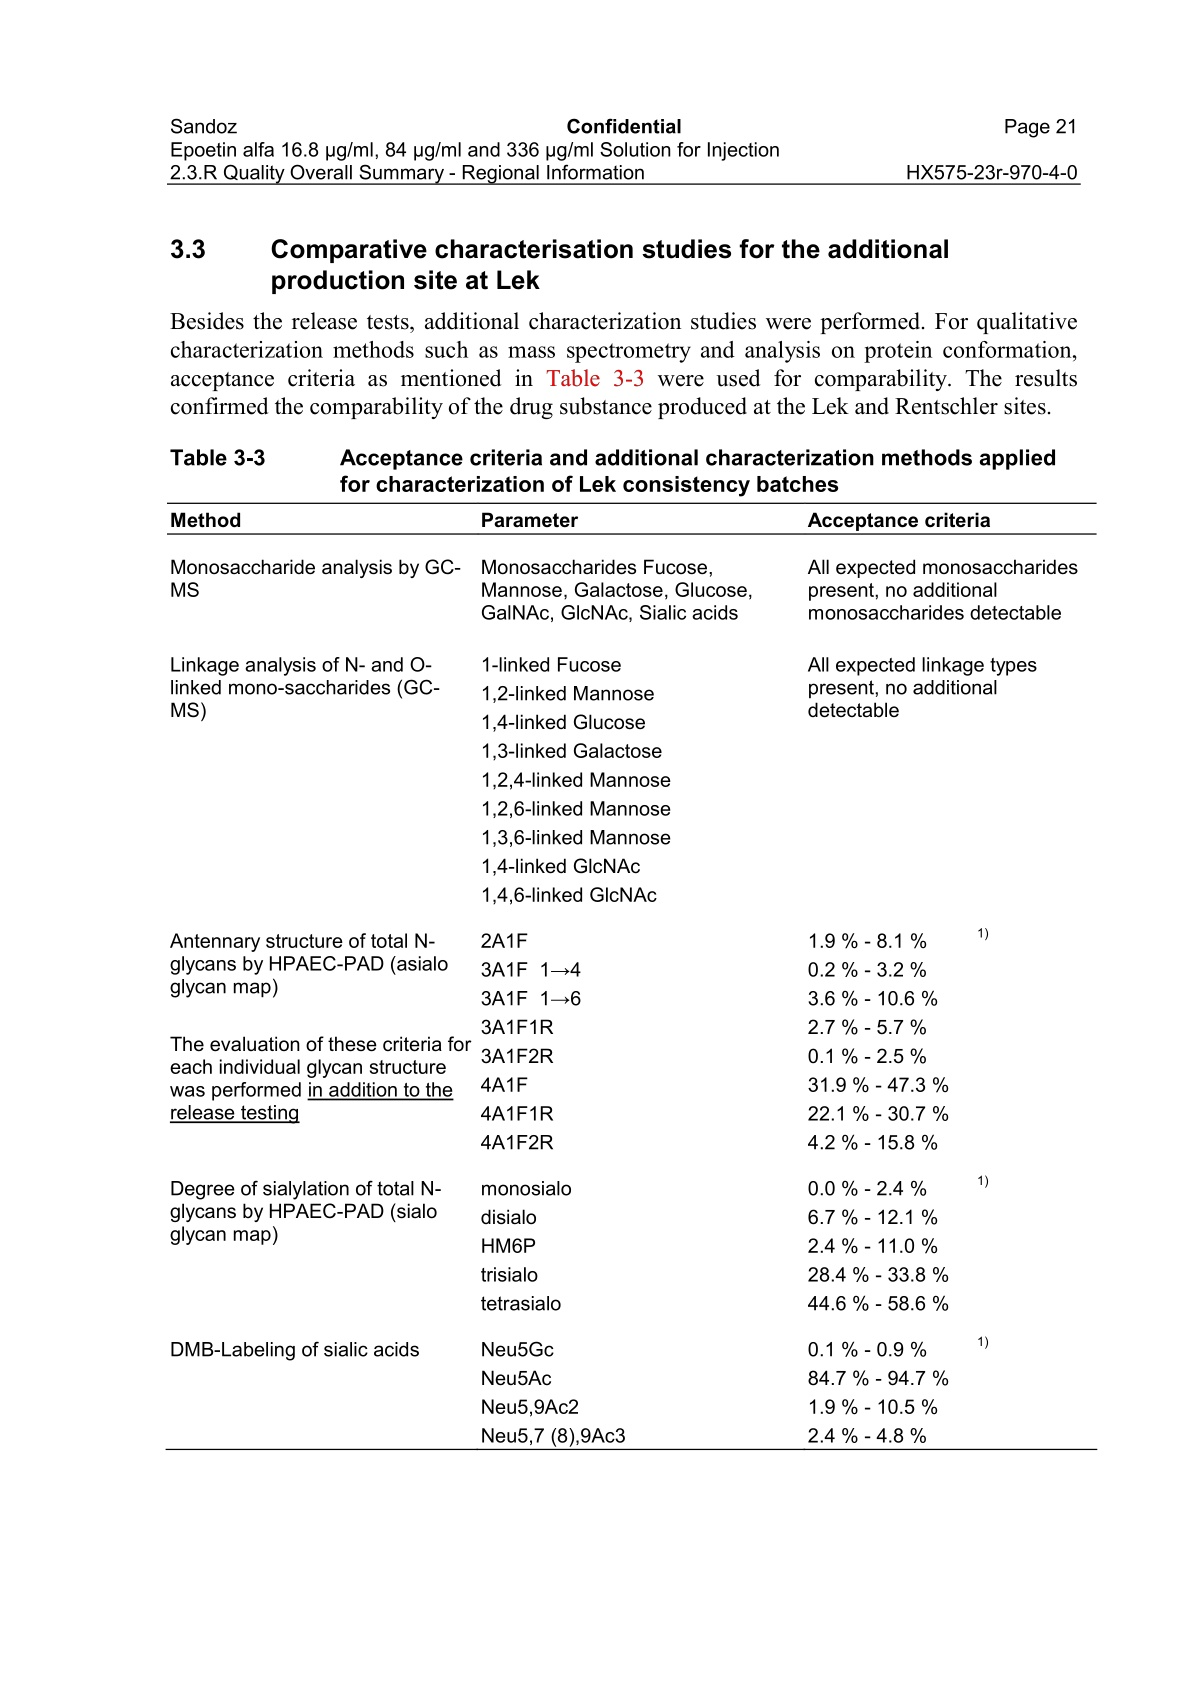partial_lined: (165, 501, 1098, 1452)
